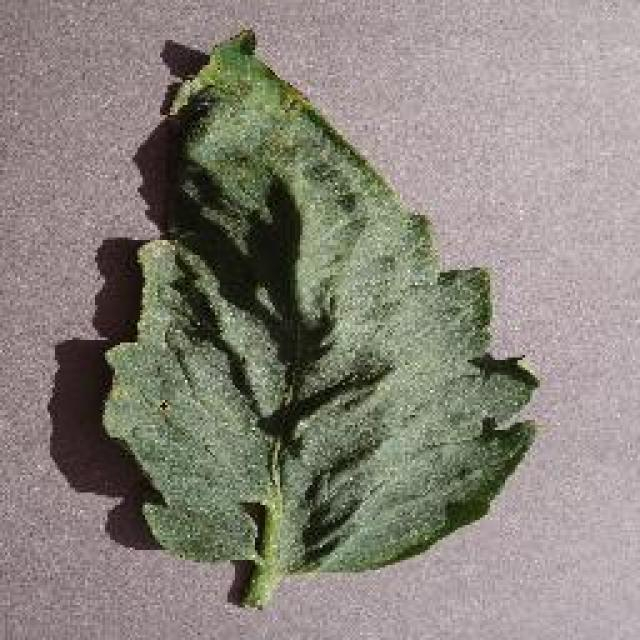Tomato Septoria spot leaf: (99, 29, 534, 579)
